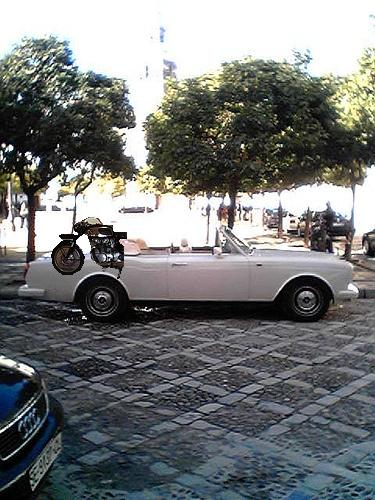tampered: (52, 218, 127, 279)
